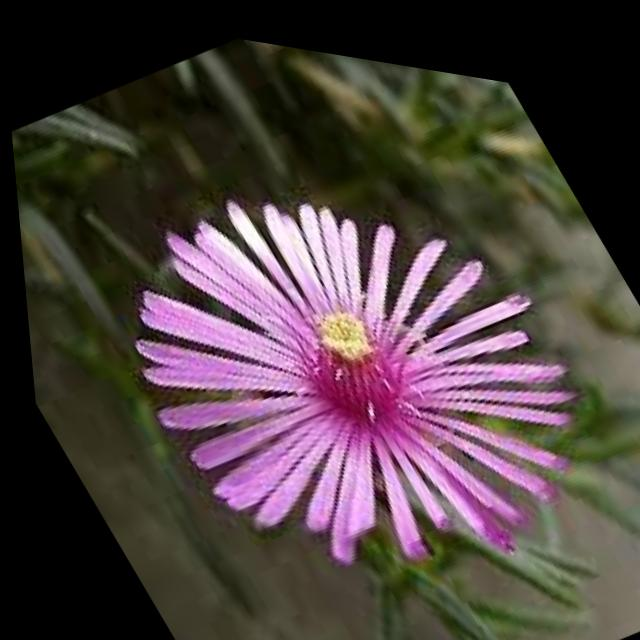Flower: (51, 61, 637, 640)
